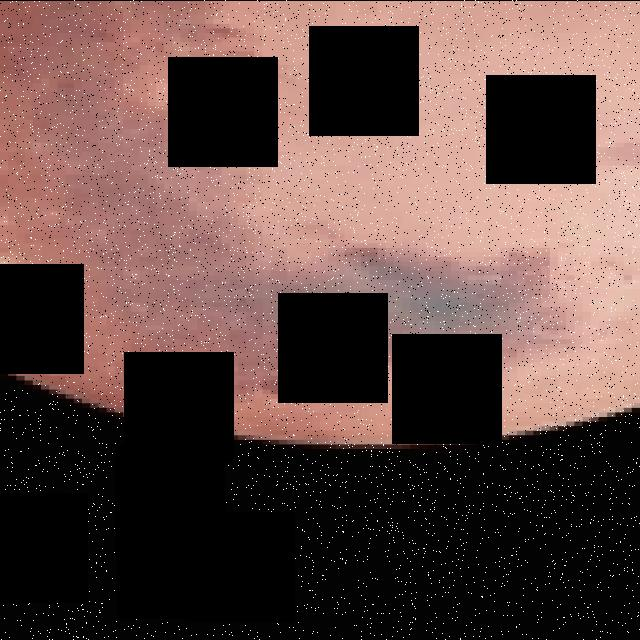Mars: (0, 0, 640, 444)
